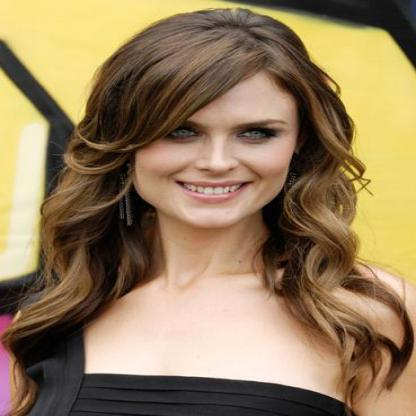long-hair: (16, 228, 392, 290)
